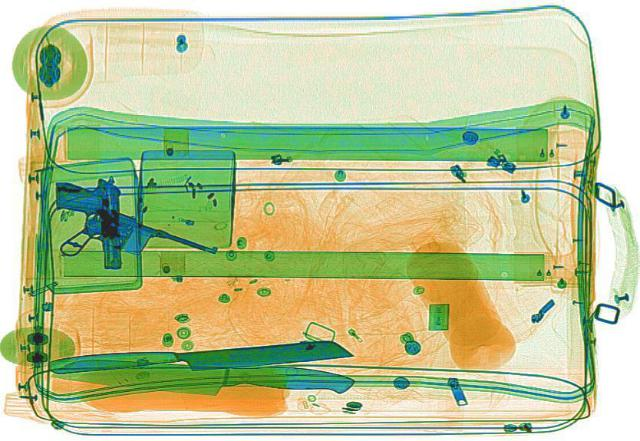Gun: (55, 203, 224, 282), (55, 176, 121, 269)
Knife: (42, 329, 356, 384), (47, 353, 356, 400)
